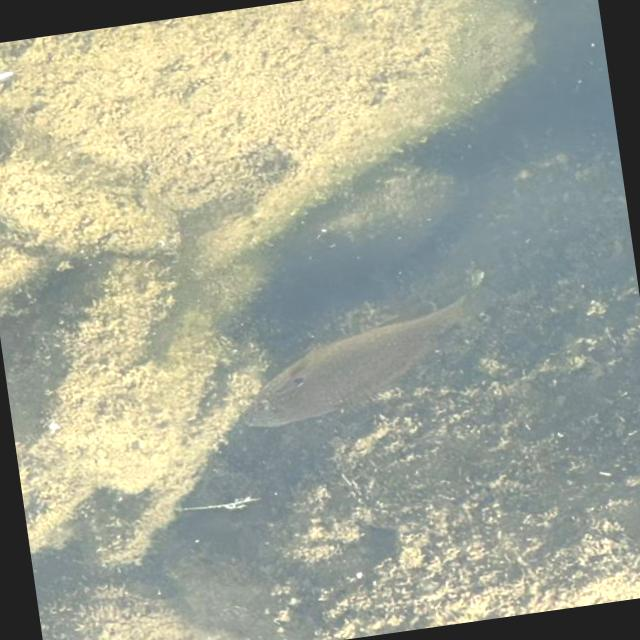Gunes Levregi: (229, 262, 528, 429)
